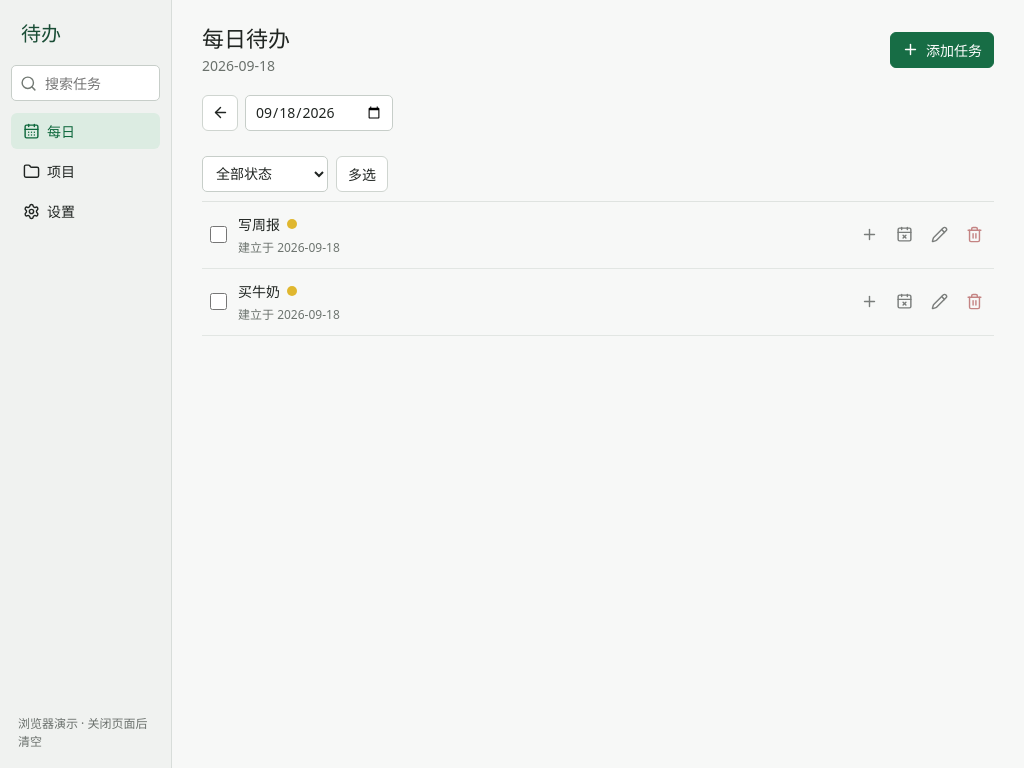
Test: filters the main area to matching tasks when the sidebar search has a query
The width and height of the screenshot is (1024, 768).
Type "周报" into the search field labelled "搜索任务".
click(86, 83); type("周报")  # box top-left (11, 65), bottom-right (160, 101)
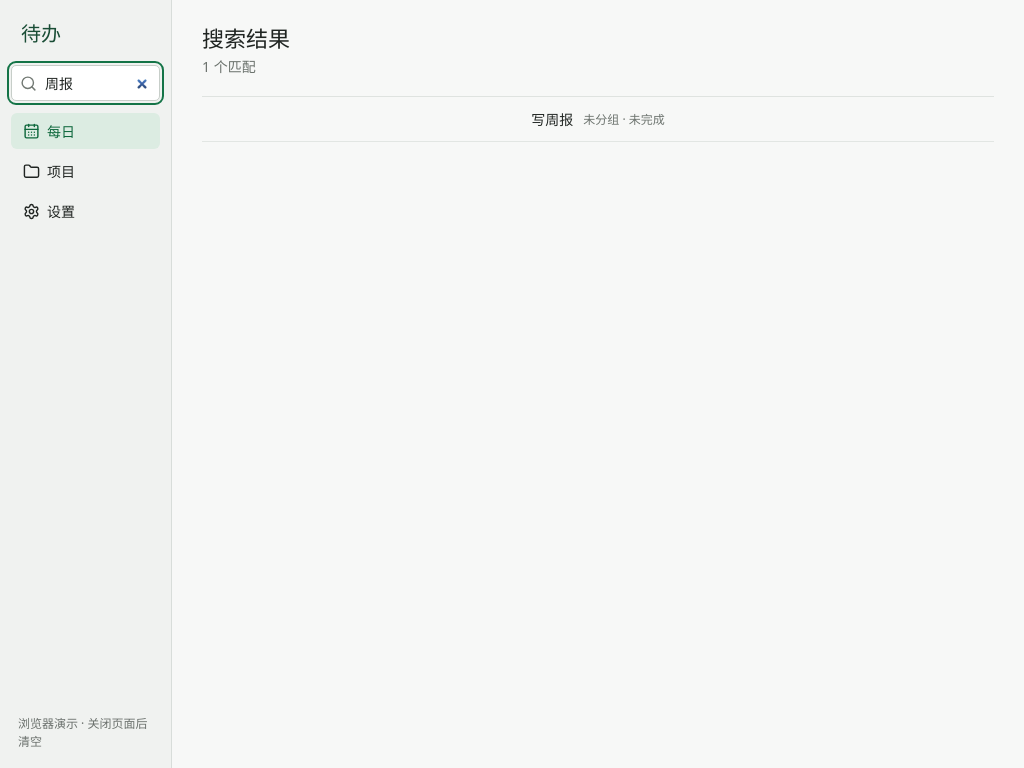
Expected: the text "写周报" is shown, top-left (531, 108), bottom-right (573, 128)
Result: the heading "搜索结果" is shown at top-left (202, 25), bottom-right (290, 52)
Result: the text "买牛奶" is gone
